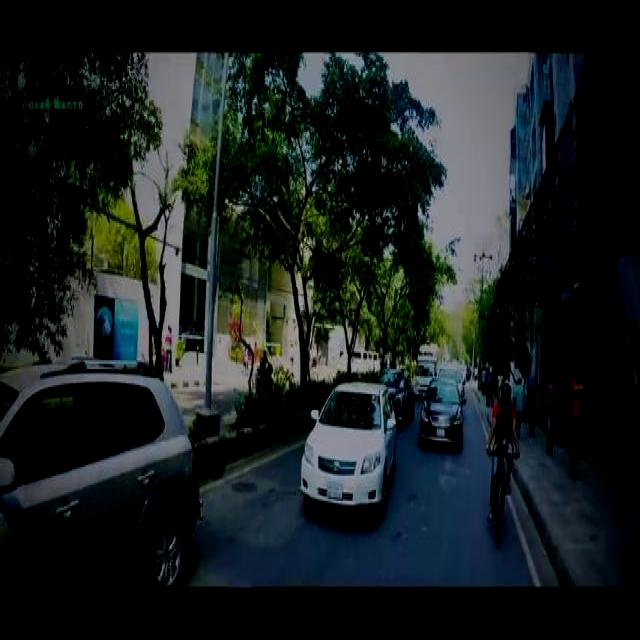MOTORCYCLE: (486, 437, 514, 552)
SED: (301, 379, 398, 518), (419, 378, 464, 460)
SUV: (3, 355, 204, 584)
